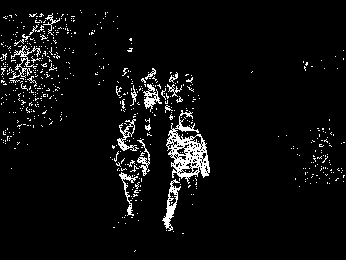person: (164, 112, 211, 232), (111, 122, 151, 218), (116, 65, 139, 112), (142, 65, 163, 111), (181, 73, 204, 113), (164, 69, 185, 112)
